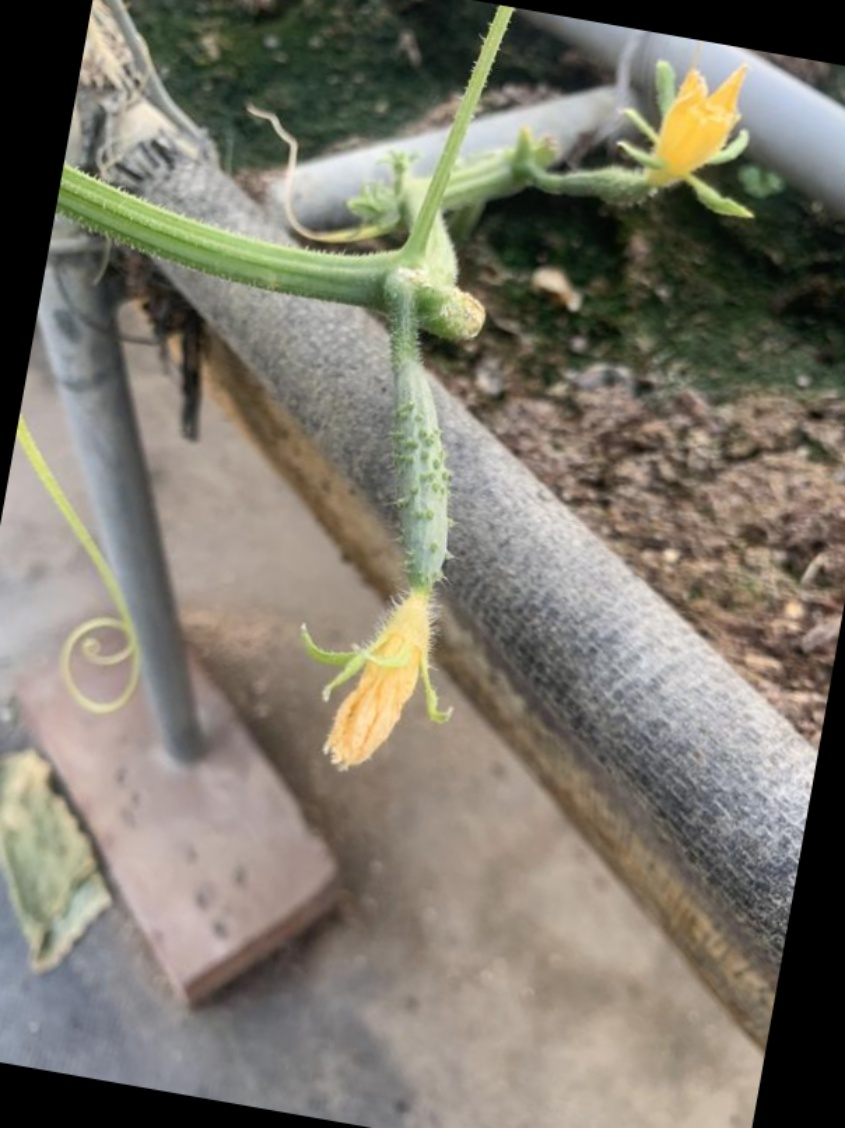bear: (306, 324, 484, 778), (555, 62, 751, 226)
